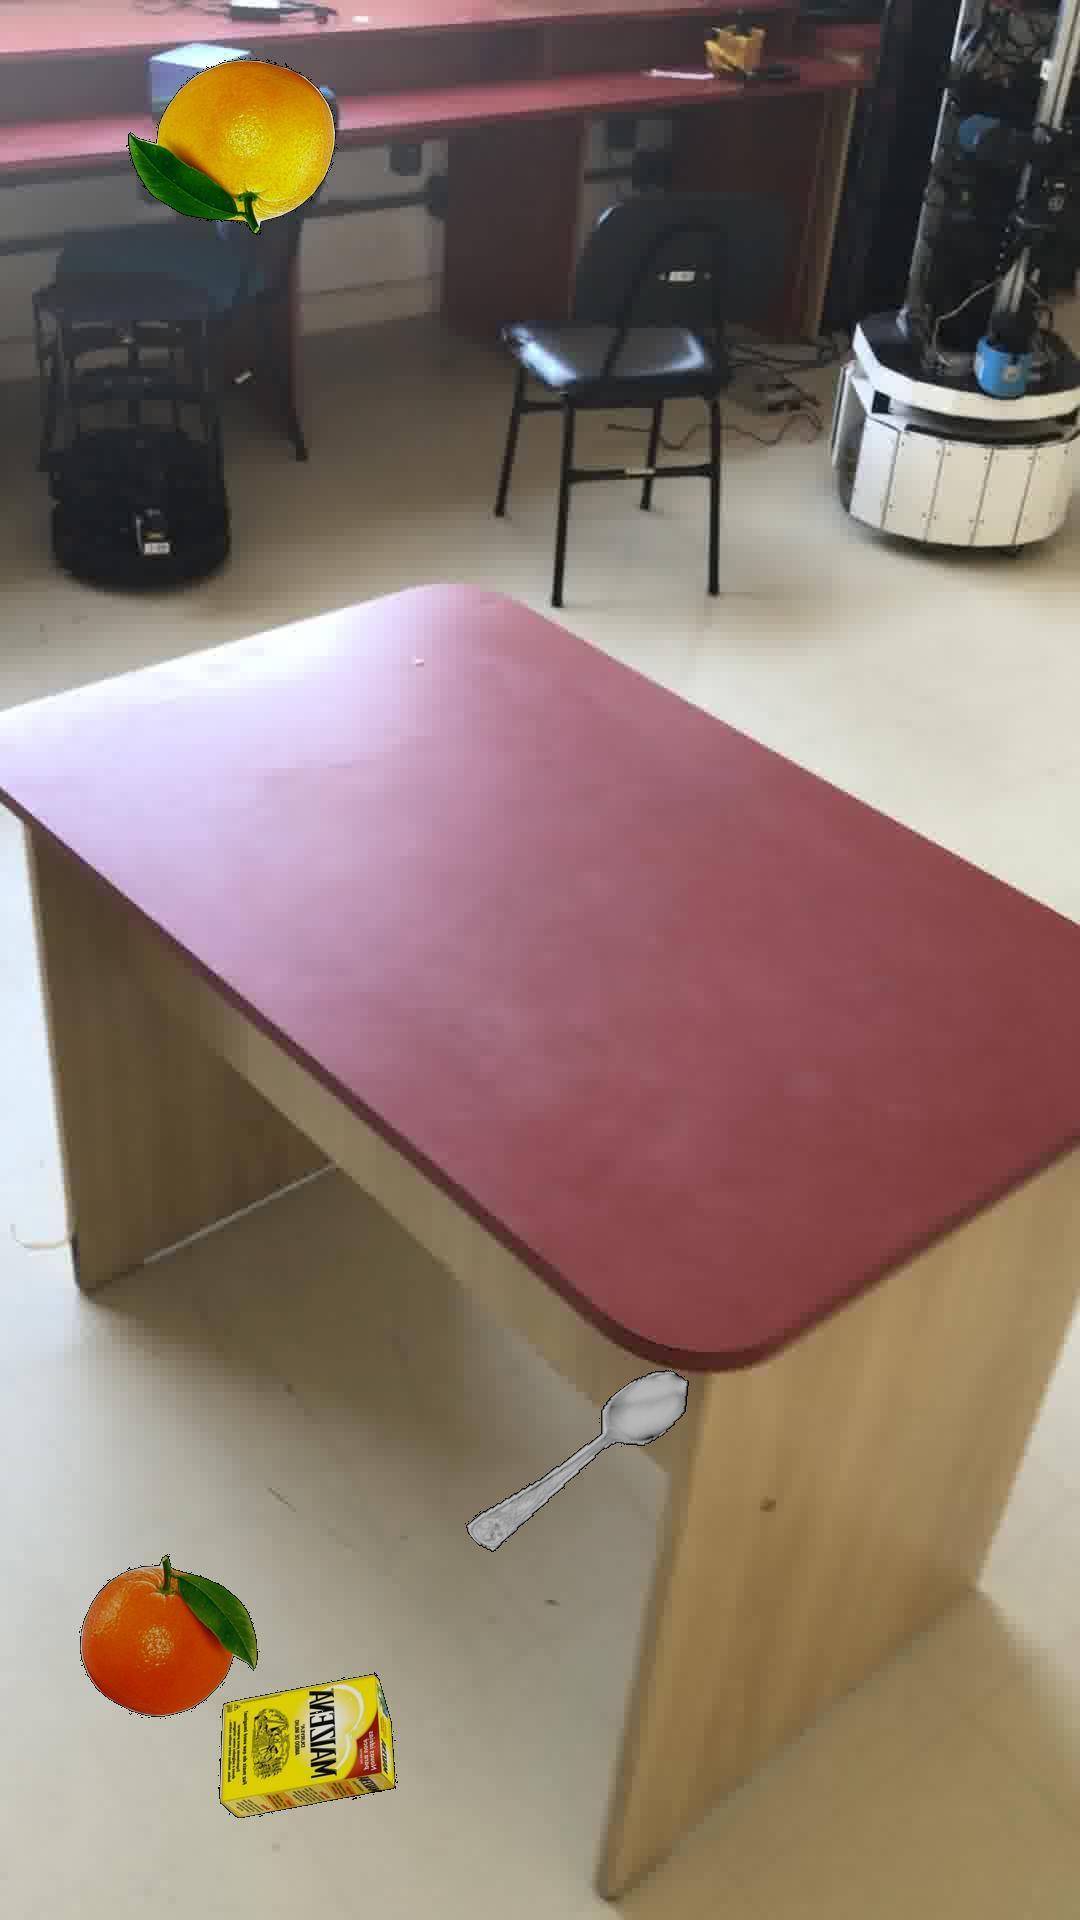orange: (124, 58, 335, 233), (79, 1553, 257, 1716)
spoon: (464, 1369, 687, 1551)
